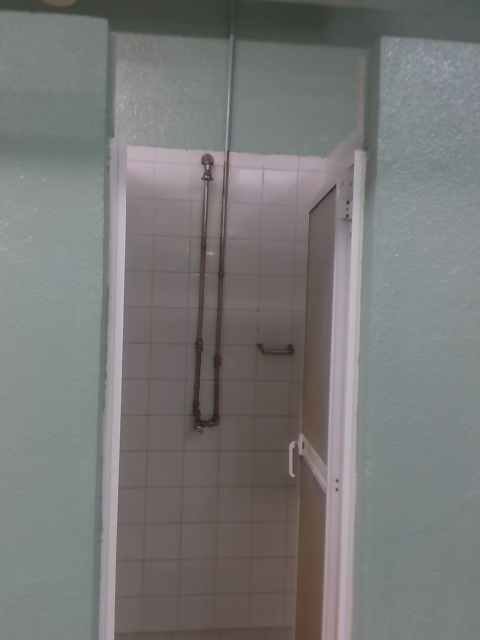open: (292, 153, 369, 639)
